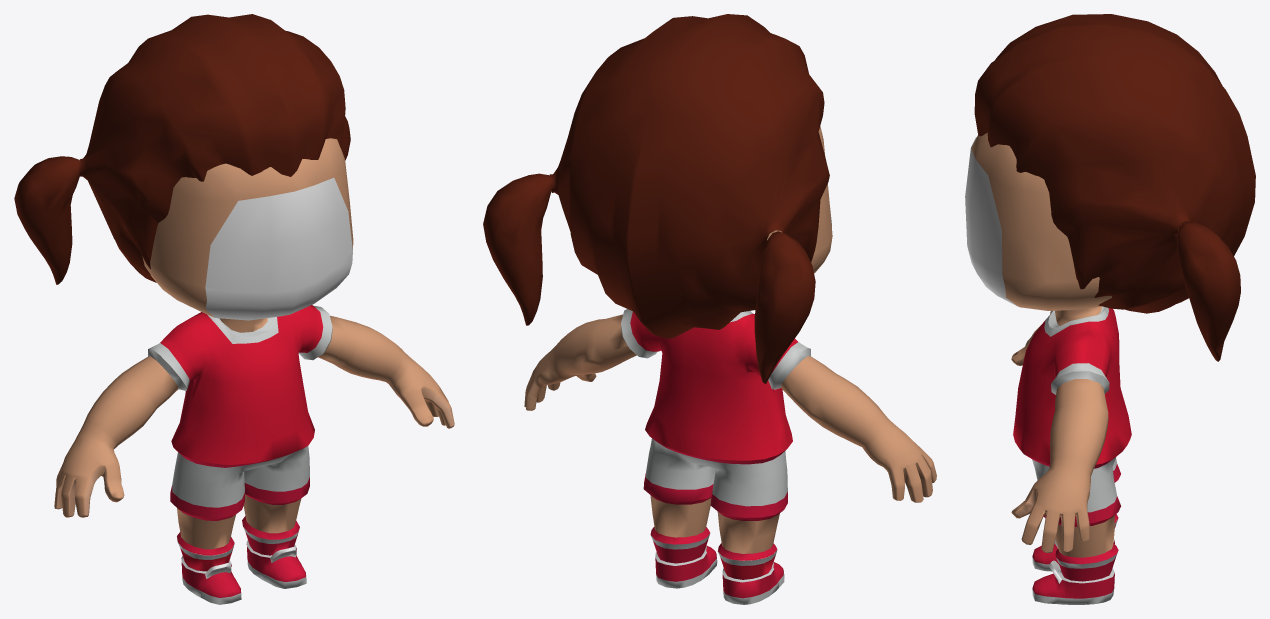
The model's file is GIRL2.fbx.
The picture shows the model from 3 angles, left to right: view 1: azimuth 30°, elevation 25°; view 2: azimuth 150°, elevation 25°; view 3: azimuth 270°, elevation 25°; orthographic projection. The views are drawn at different scales.
Visible parts, largest first — view 1: Object_89; view 2: Object_89; view 3: Object_89.
Part boxes in pixels (x1,y1,x2,y2): Object_89: (14, 14, 454, 604); Object_89: (483, 14, 936, 604); Object_89: (965, 14, 1255, 604).
Bounding box in the file's own units: 378 × 512 × 243.
2 materials, 1 textured.
